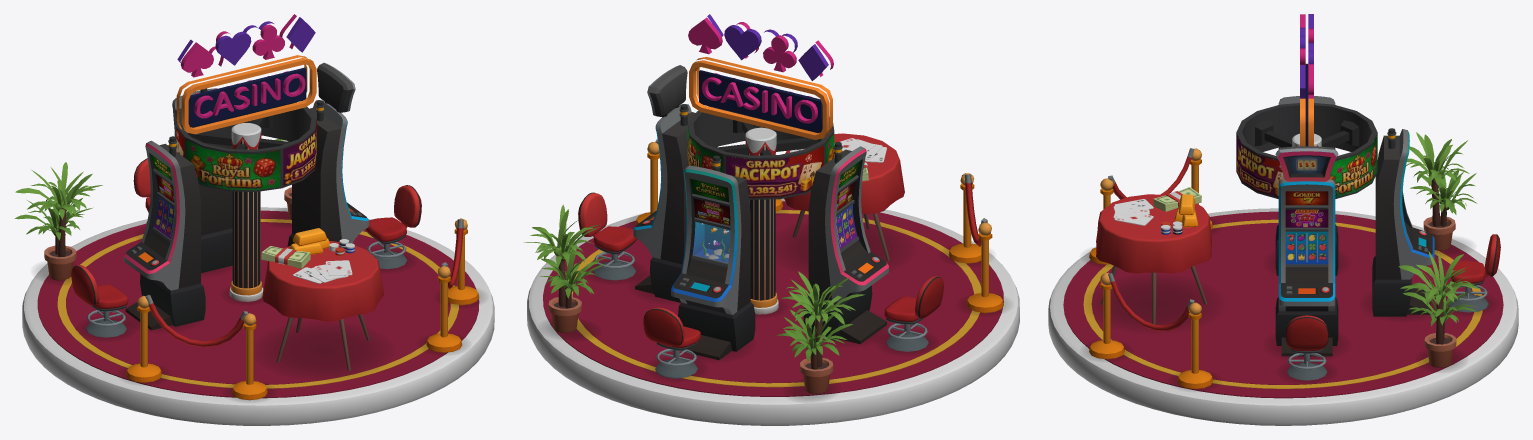
Rendered from casino.glb.
3 views of the same model, side by side, from view 1: azimuth 30°, elevation 25°; view 2: azimuth 150°, elevation 25°; view 3: azimuth 270°, elevation 25° (orthographic). The views are drawn at different scales.
Visible parts, largest first — view 1: matte, glow, print_glow, shadow, print, metal; view 2: matte, glow, print_glow, shadow, glass, print; view 3: matte, print_glow, glow, shadow, print, metal.
Part boxes in pixels (box(x1,y1,x2,y2)): matte: box(14, 63, 494, 425); glow: box(124, 14, 368, 273); print_glow: box(150, 120, 316, 232); shadow: box(37, 209, 482, 400); print: box(261, 246, 352, 283); metal: box(289, 228, 330, 254); matte: box(524, 65, 1019, 425); glow: box(633, 14, 888, 301); print_glow: box(687, 125, 861, 243); shadow: box(545, 200, 1006, 400); glass: box(693, 222, 730, 263); print: box(834, 138, 886, 180); matte: box(1048, 63, 1518, 425); print_glow: box(1236, 135, 1377, 260); glow: box(1277, 14, 1434, 301); shadow: box(1086, 222, 1491, 389); print: box(1113, 187, 1201, 225); metal: box(1174, 194, 1198, 227).
Size of the model in its own units: 4 by 2.71 by 4.
7 materials, 2 textured.
